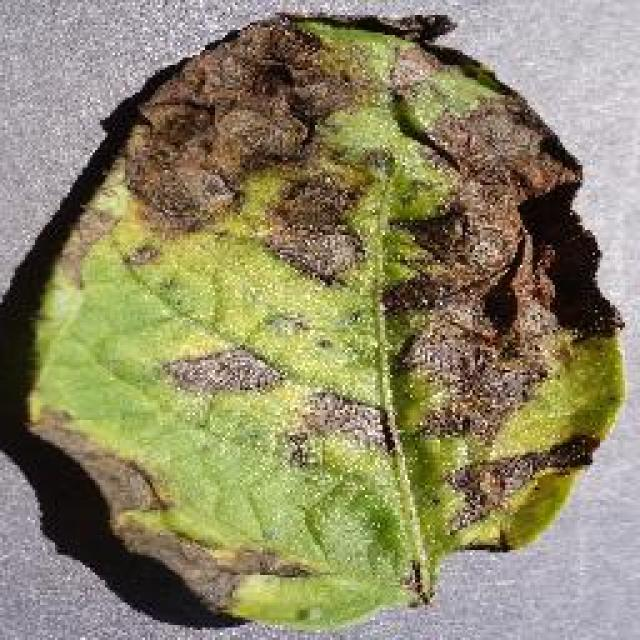early_blight: (20, 7, 628, 635)
